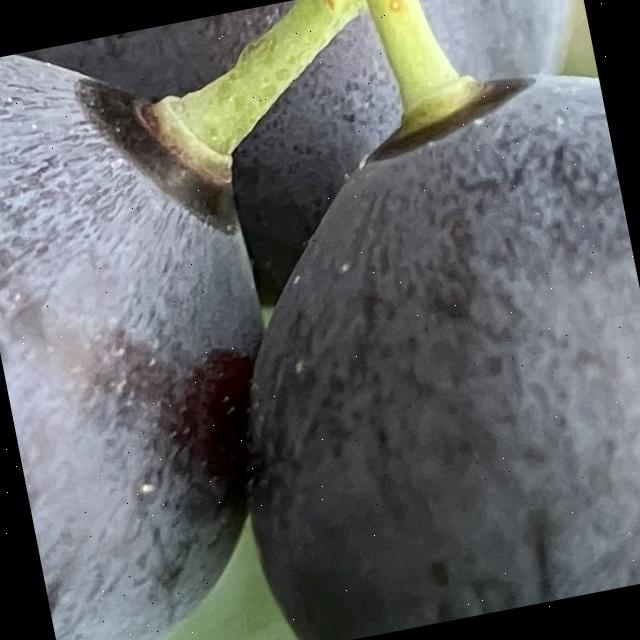Blueberries: (157, 12, 640, 640), (0, 12, 348, 640)
